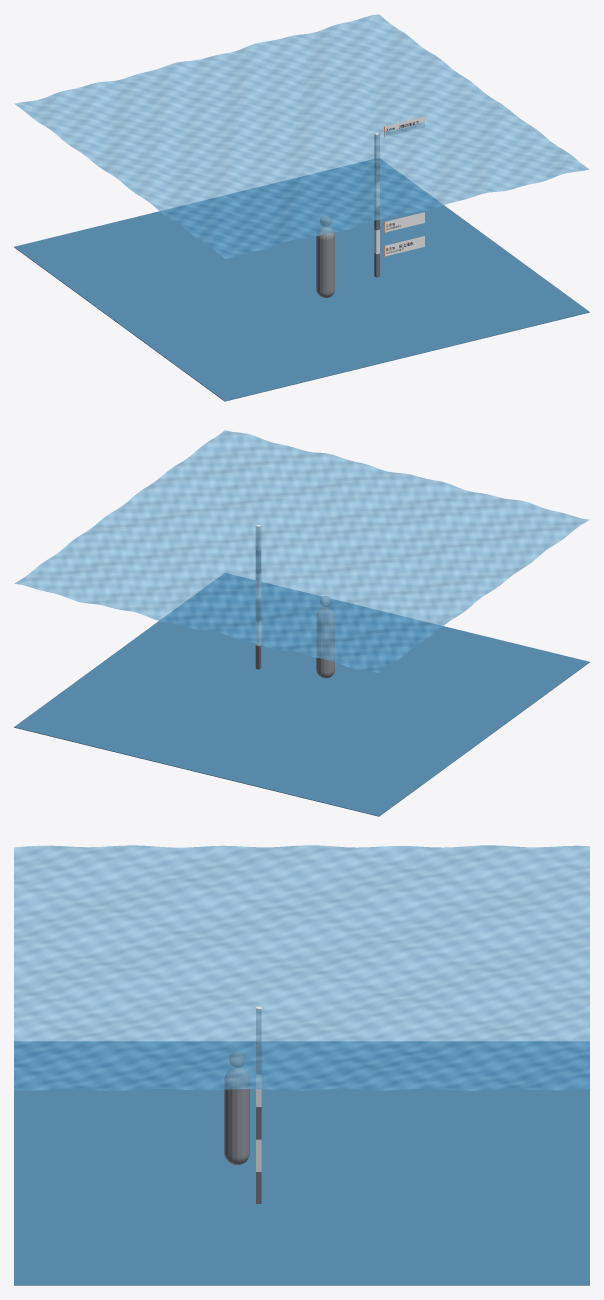
Rendered from flood_300.glb.
3 views of the same model, one above another, from view 1: azimuth 30°, elevation 25°; view 2: azimuth 150°, elevation 25°; view 3: azimuth 270°, elevation 25° (orthographic). The views are drawn at different scales.
Visible parts, largest first — view 1: geometry_0, geometry_1, geometry_14; view 2: geometry_0, geometry_1, geometry_14; view 3: geometry_0, geometry_1, geometry_14.
Part boxes in pixels (x1=…): geometry_0: x1=14, y1=14, x2=589, y2=258; geometry_1: x1=14, y1=159, x2=589, y2=401; geometry_14: x1=316, y1=227, x2=334, y2=298; geometry_0: x1=14, y1=430, x2=588, y2=672; geometry_1: x1=14, y1=573, x2=589, y2=816; geometry_14: x1=316, y1=607, x2=334, y2=678; geometry_0: x1=14, y1=845, x2=589, y2=1090; geometry_1: x1=14, y1=1041, x2=589, y2=1285; geometry_14: x1=224, y1=1068, x2=249, y2=1165.
Size of the model in its own units: 8 by 3.12 by 8.
8 materials, 4 textured.
